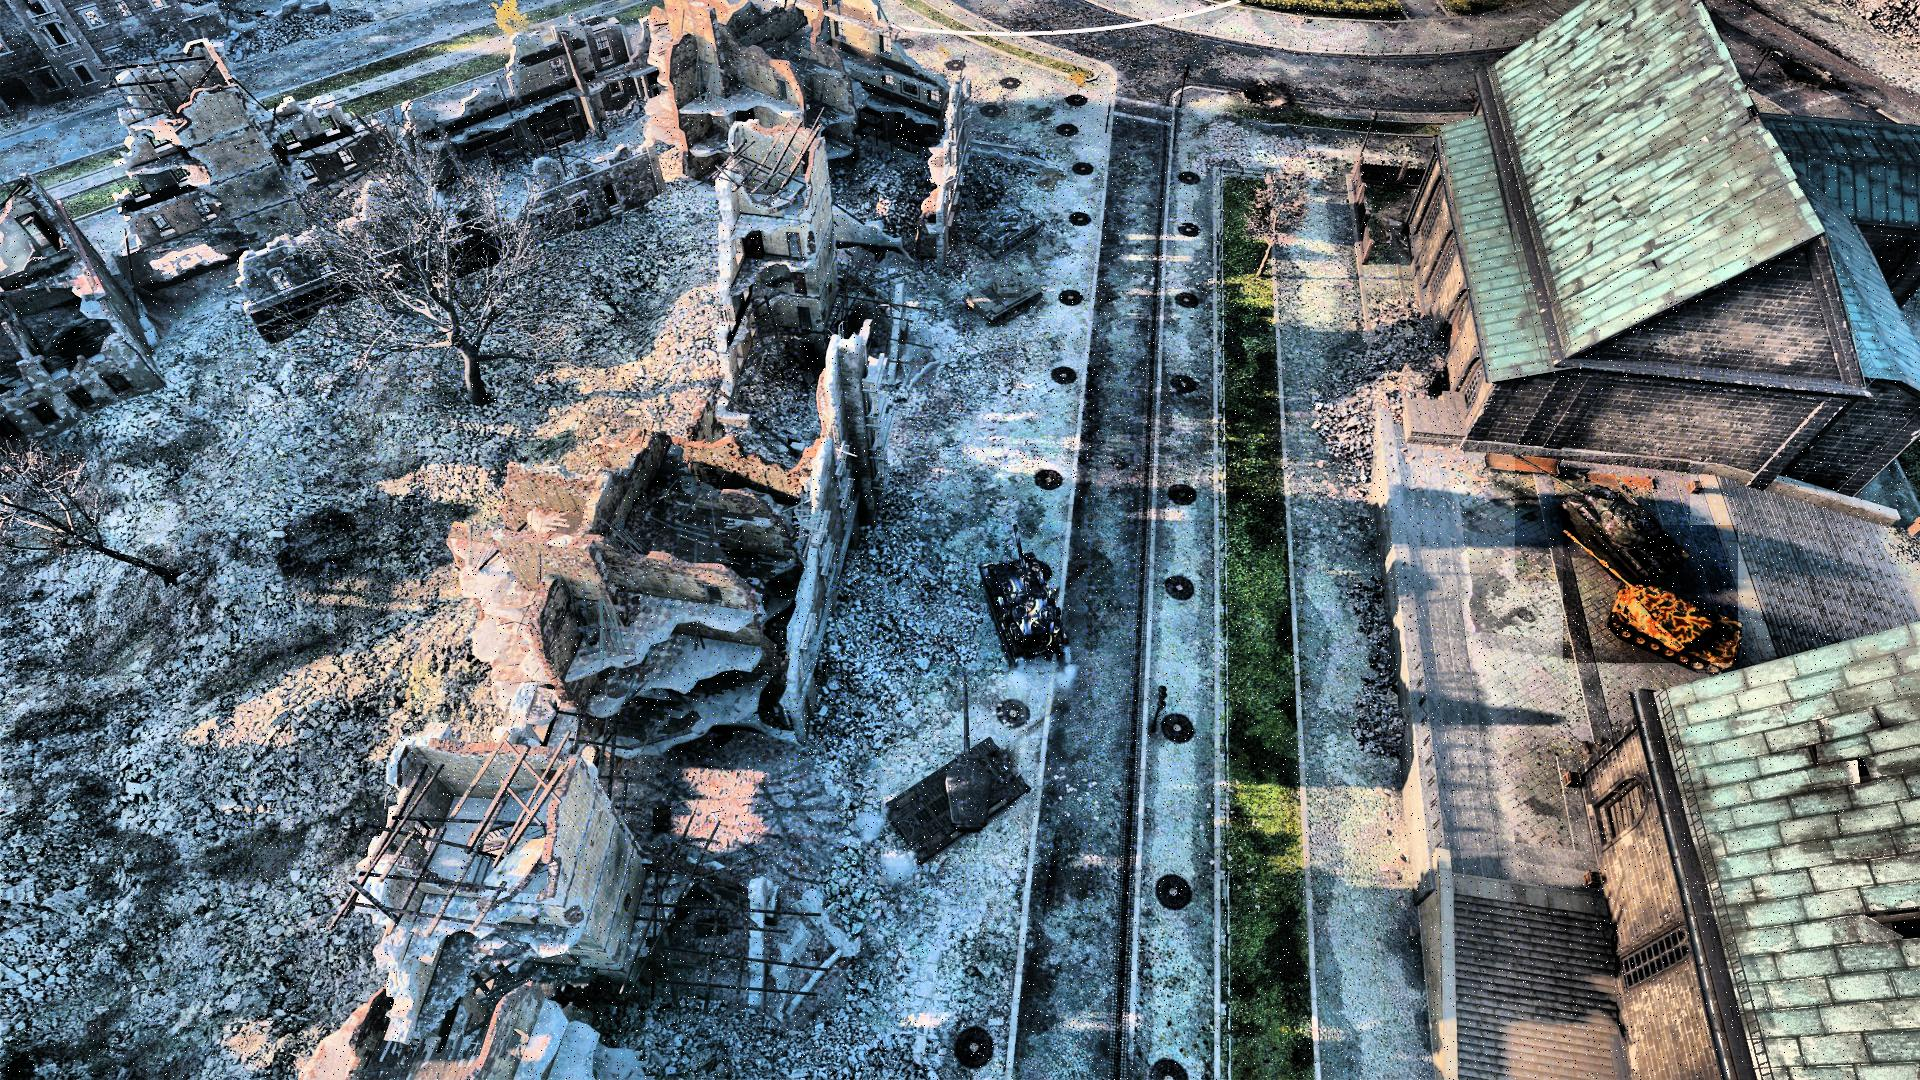military-vehicle: (882, 676, 1027, 866), (1564, 525, 1738, 663), (1515, 456, 1691, 582), (980, 525, 1063, 667)
